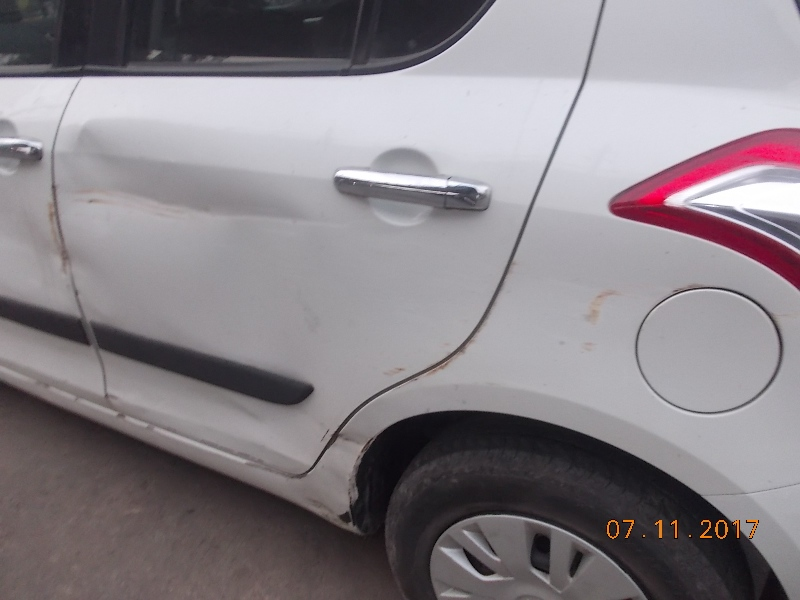Dent: (75, 107, 303, 234)
